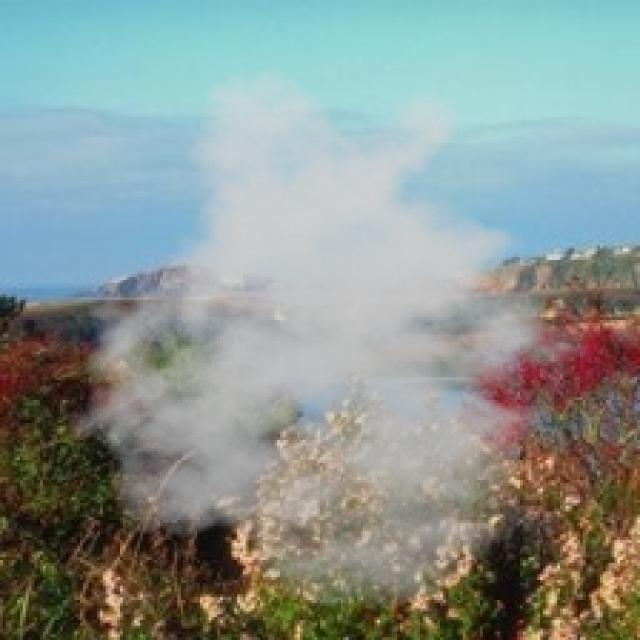Smoke: (54, 66, 609, 612)
